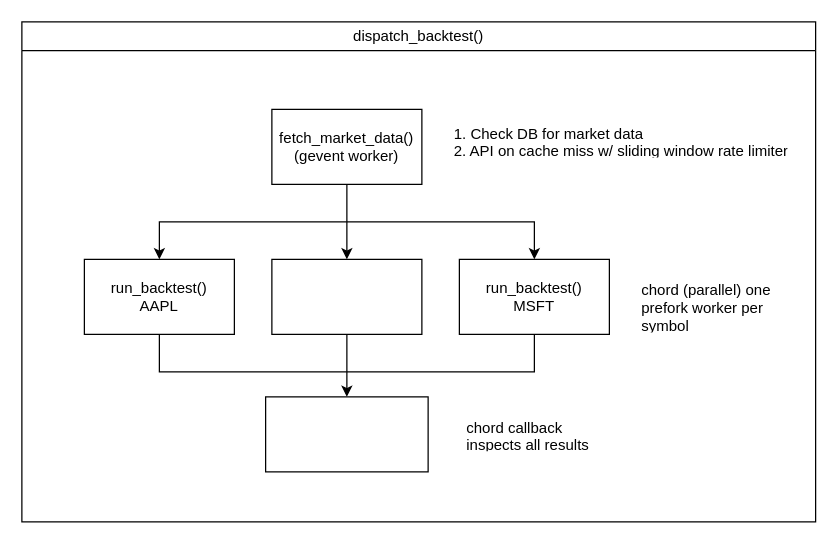
Image size: 838x544. Some labels were removed from this diagram. The centre of each missing label's shape, as x and y in pixels:
"finalize_backtest_job() COMPLETED or FAILED" goes at point 346,434.
"run_backtest() NVDA" goes at point 346,296.
